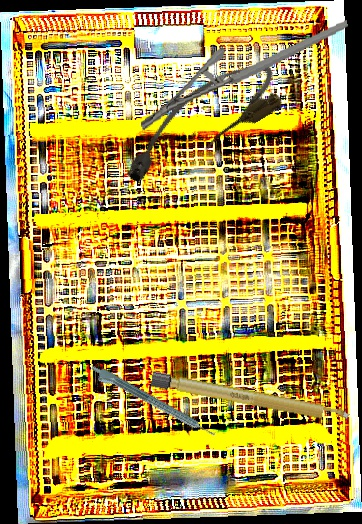Cannula: (107, 50, 291, 194)
Handpiece: (87, 363, 217, 444)
Needle Holder: (131, 20, 358, 131)
Scalpel Handle: (150, 370, 351, 426)
